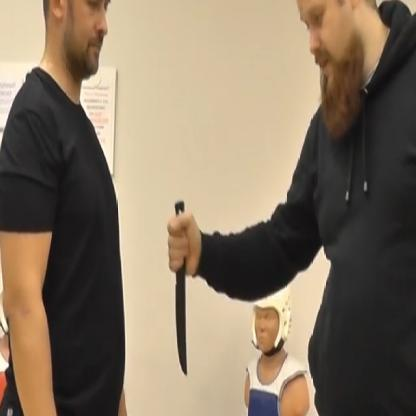knife: (162, 190, 194, 382)
